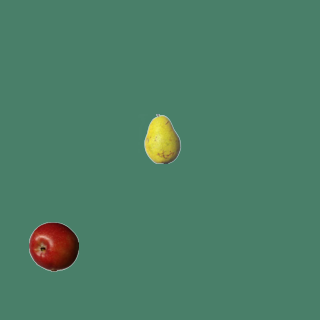Apple Braeburn: (28, 221, 78, 271)
Pear Monster: (137, 113, 187, 163)
